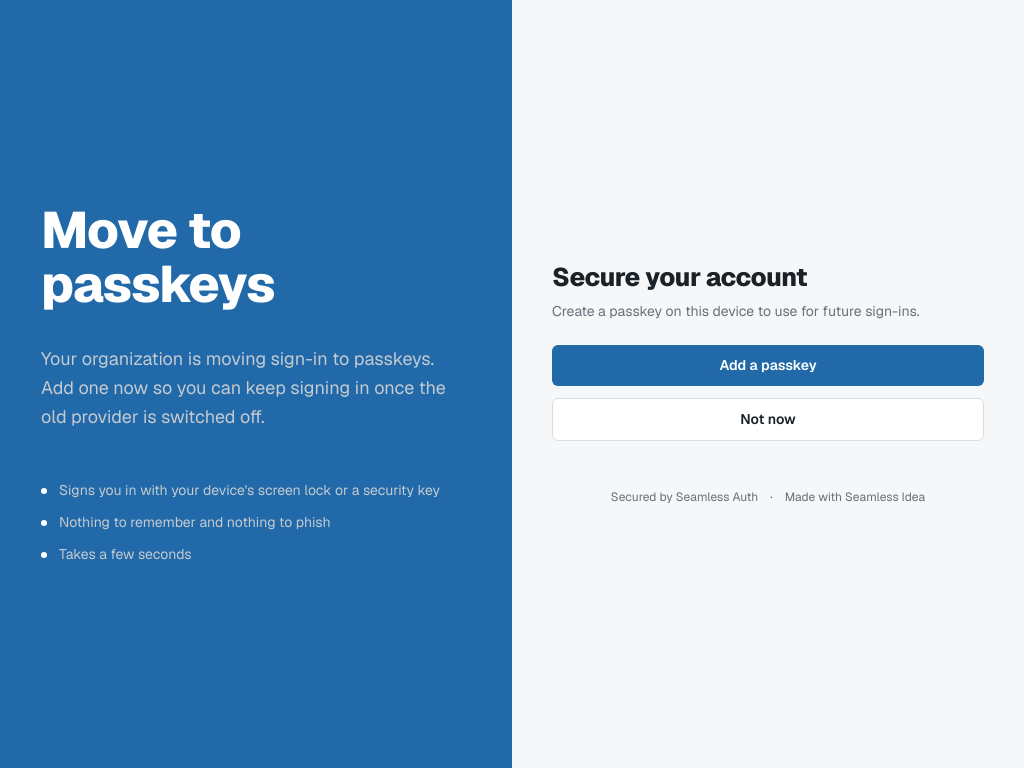
Test case: EnrollPasskey › stays on the page and explains a failed registration
Click the button "Add a passkey".
click(768, 365)  # box [552,345,984,386]
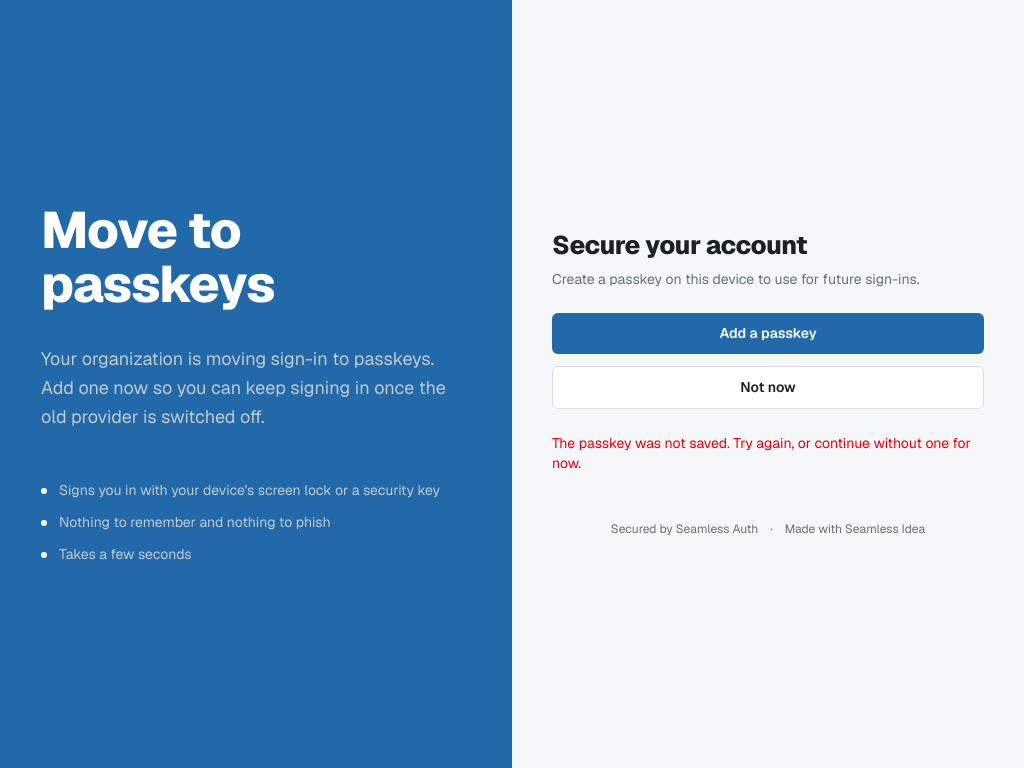
Now the text "The passkey was not saved" is shown, box [552,434,971,472]
